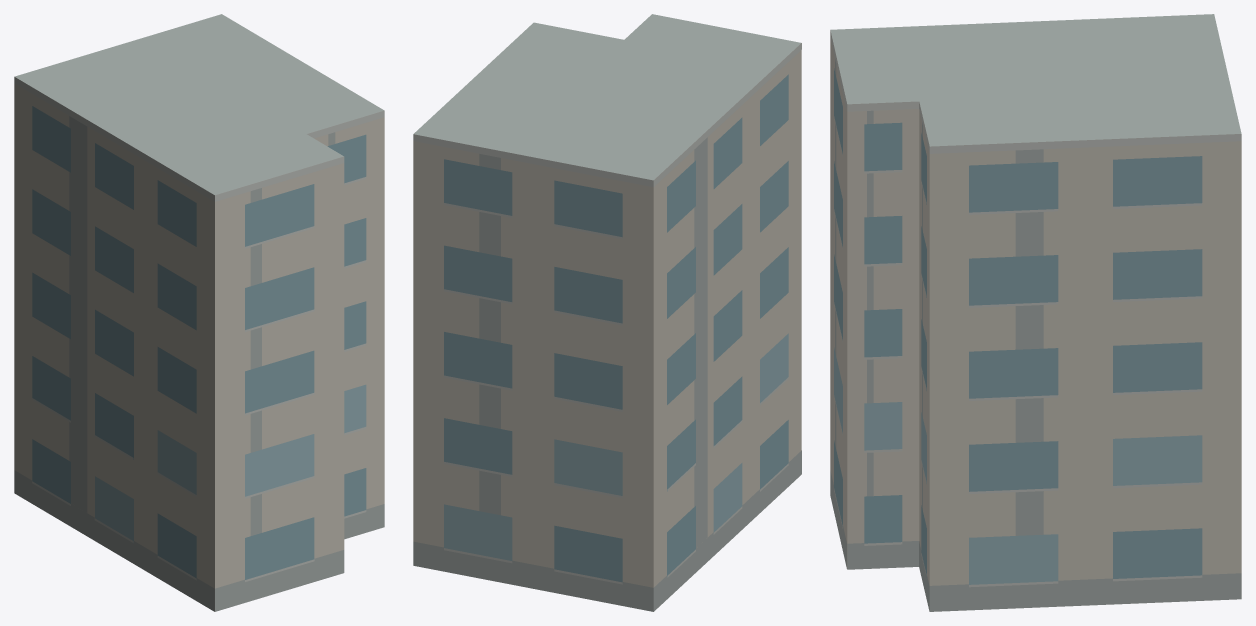
The model's file is residential-3782248f-1417-47c4-857e-a6cade2aa7d8.glb.
3 views of the same model, side by side, from view 1: azimuth 30°, elevation 25°; view 2: azimuth 150°, elevation 25°; view 3: azimuth 270°, elevation 25° (orthographic). The views are drawn at different scales.
Parts seen in each view (by area): view 1: residential-3782248f-1417-47c4-857e-a6cade2aa7d8.tmp; view 2: residential-3782248f-1417-47c4-857e-a6cade2aa7d8.tmp; view 3: residential-3782248f-1417-47c4-857e-a6cade2aa7d8.tmp.
Boxes of the visible parts, box(x1,y1,x2,y2) form: residential-3782248f-1417-47c4-857e-a6cade2aa7d8.tmp: box(14, 14, 384, 611); residential-3782248f-1417-47c4-857e-a6cade2aa7d8.tmp: box(413, 14, 801, 611); residential-3782248f-1417-47c4-857e-a6cade2aa7d8.tmp: box(830, 14, 1241, 611).
Size of the model in its own units: 9.32 by 15.25 by 12.22.
